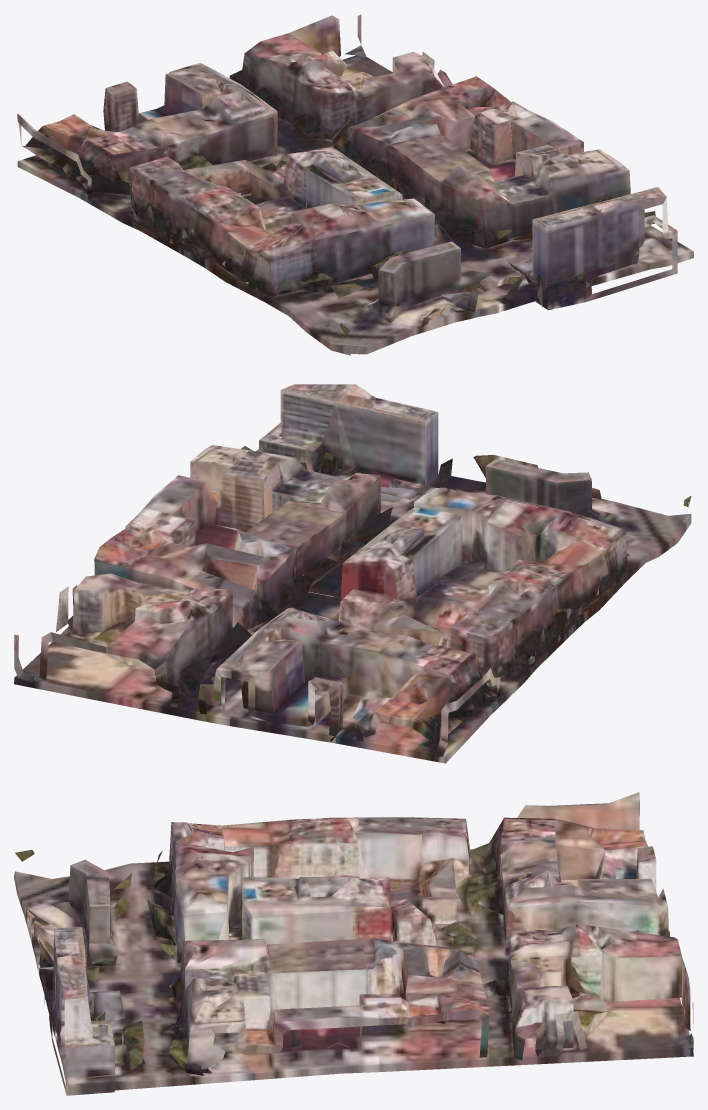
3 renders of one model, top to bottom at view 1: azimuth 30°, elevation 25°; view 2: azimuth 150°, elevation 25°; view 3: azimuth 270°, elevation 25°, orthographic. The views are drawn at different scales.
Parts seen in each view (by area): view 1: Mesh_0; view 2: Mesh_0; view 3: Mesh_0.
Boxes of the visible parts, bbox=[...] form: Mesh_0: bbox=[17, 14, 693, 355]; Mesh_0: bbox=[14, 384, 691, 763]; Mesh_0: bbox=[14, 792, 693, 1095].
Size of the model in its own units: 269 by 54.42 by 330.
Materials: 2 (2 with a texture image).
